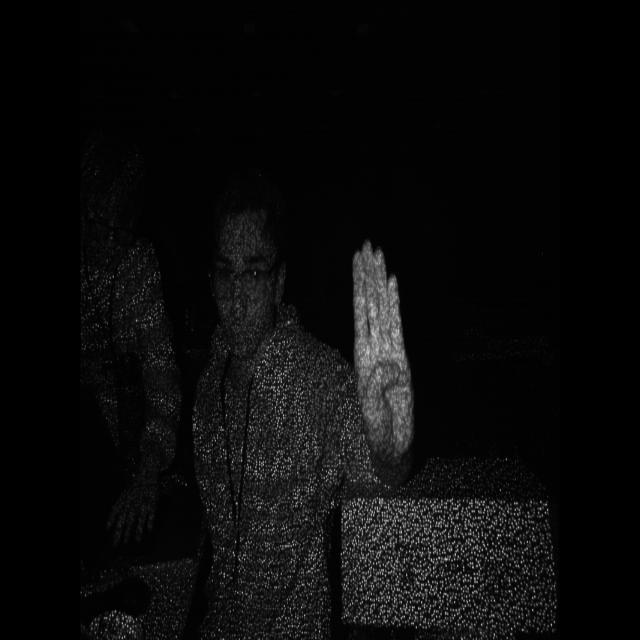B: (343, 230, 424, 474)
